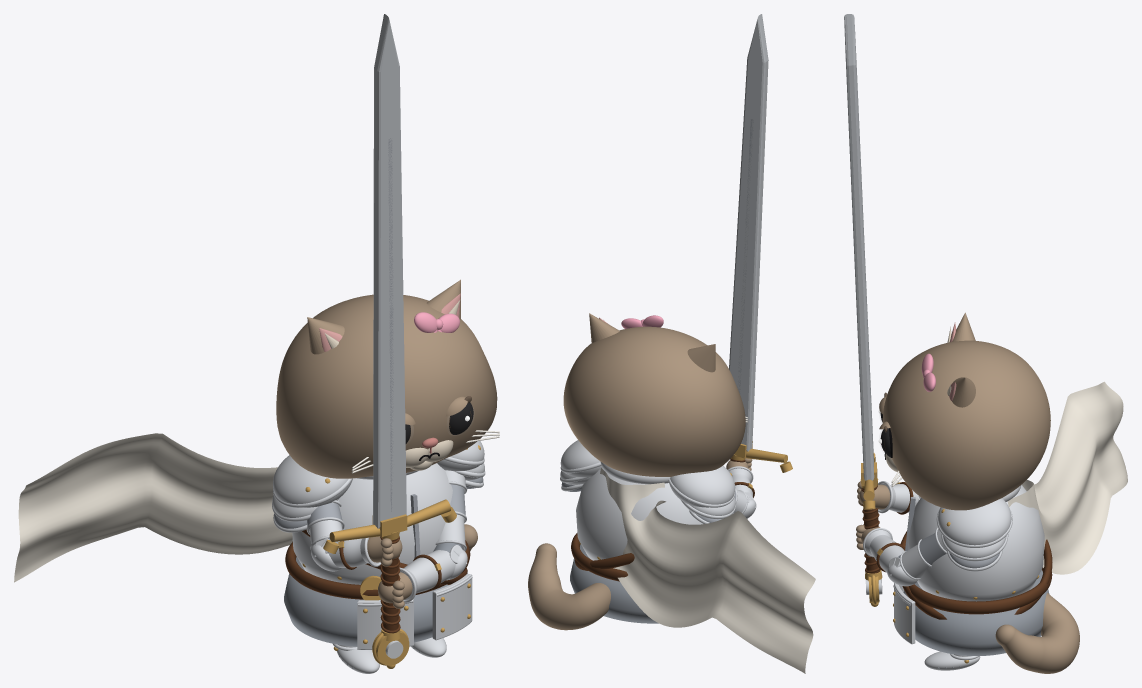
Rendered from knight-kitten.glb.
3 views of the same model, side by side, from view 1: azimuth 30°, elevation 25°; view 2: azimuth 150°, elevation 25°; view 3: azimuth 270°, elevation 25° (orthographic). The views are drawn at different scales.
Visible parts, largest first — view 1: Cape, Skull, Blade, Cuirass, Chainmail, KnightKitten, Tasset (×2), Armor, Pauldron, Belt, Vambrace, Fuller (+2 smaller); view 2: Skull, Cape, Blade, Cuirass, Tail, Pauldron (×2), Chainmail, Armor, Ear (×2), Belt, KnightKitten, Fuller (+2 smaller); view 3: Skull, Cape, Cuirass, Blade, Chainmail, Tail, Armor, Pauldron, KnightKitten, Belt, Vambrace (×2), Tasset (+4 smaller).
Boxes of the visible parts, box(x1,y1,x2,y2) form: Cape: box(14, 433, 292, 582); Skull: box(276, 294, 497, 478); Blade: box(373, 14, 406, 528); Cuirass: box(292, 463, 452, 584); Chainmail: box(284, 556, 467, 646); KnightKitten: box(306, 470, 467, 603); Tasset (×2): box(357, 573, 472, 649); Armor: box(272, 445, 485, 668); Pauldron: box(273, 455, 352, 507); Belt: box(285, 540, 470, 599); Vambrace: box(403, 550, 455, 593); Fuller: box(388, 138, 393, 511); Skull: box(563, 326, 745, 476); Cape: box(600, 468, 815, 673); Blade: box(729, 14, 768, 451); Cuirass: box(576, 468, 702, 560); Tail: box(528, 550, 610, 630); Pauldron (×2): box(560, 440, 735, 507); Chainmail: box(570, 544, 658, 623); Armor: box(536, 462, 735, 559); Ear (×2): box(589, 313, 715, 372); Belt: box(571, 533, 627, 581); KnightKitten: box(726, 460, 754, 513); Fuller: box(737, 119, 753, 393); Skull: box(882, 340, 1050, 510); Cape: box(1007, 381, 1127, 574); Cuirass: box(908, 485, 1044, 601); Blade: box(844, 14, 874, 480); Chainmail: box(903, 570, 1049, 655); Tail: box(1001, 593, 1079, 673); Armor: box(893, 497, 1039, 668); Pauldron: box(938, 498, 1011, 545); KnightKitten: box(859, 481, 947, 579); Belt: box(908, 567, 1052, 614); Vambrace (×2): box(869, 484, 918, 572); Tasset: box(894, 583, 915, 644).
Bounding box in the file's own units: 0.0498 × 0.0845 × 0.0355.
